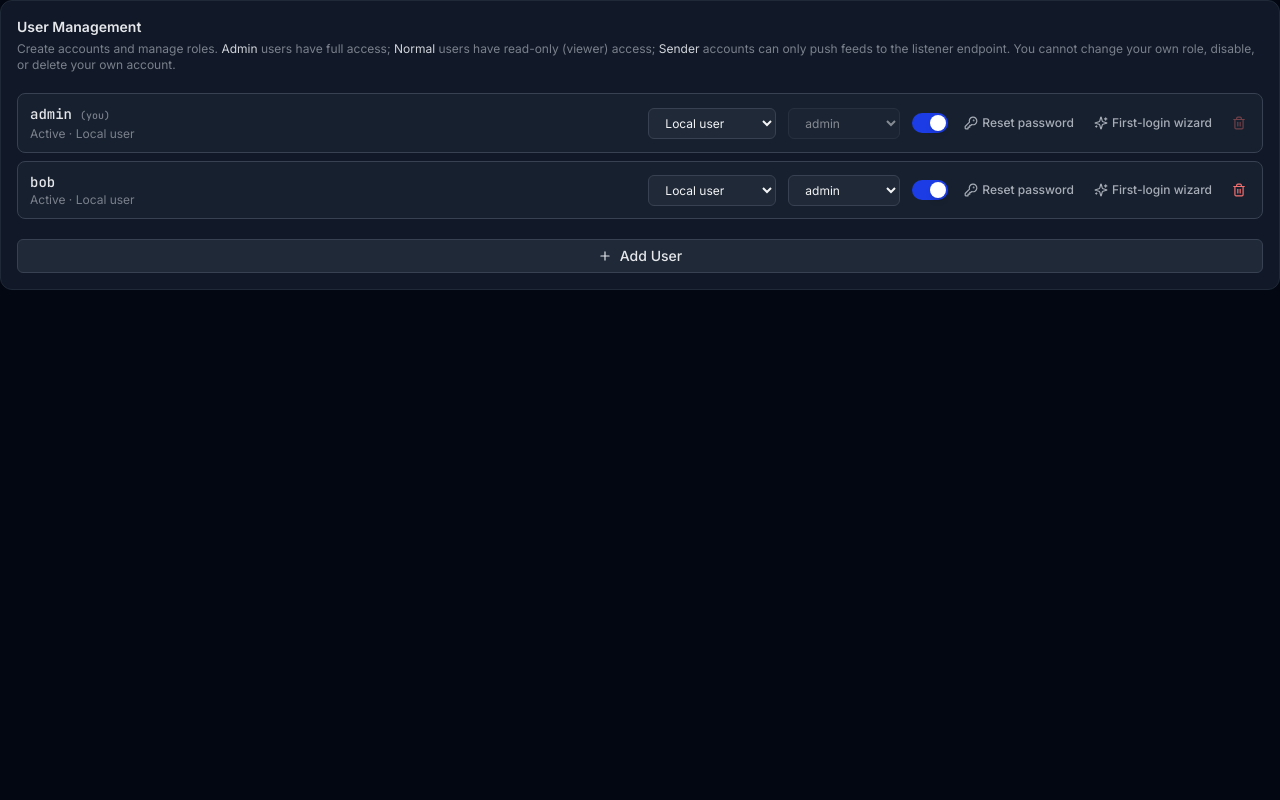
it: UserManagementTab (prompts-045) › surfaces a backend rejection (e.g. last-admin guard)
Check: the text "bob" is shown, box x1=30 y1=173 x2=55 y2=191
Click the button titled "Delete user": (1239, 190) x1=1228 y1=179 x2=1250 y2=201
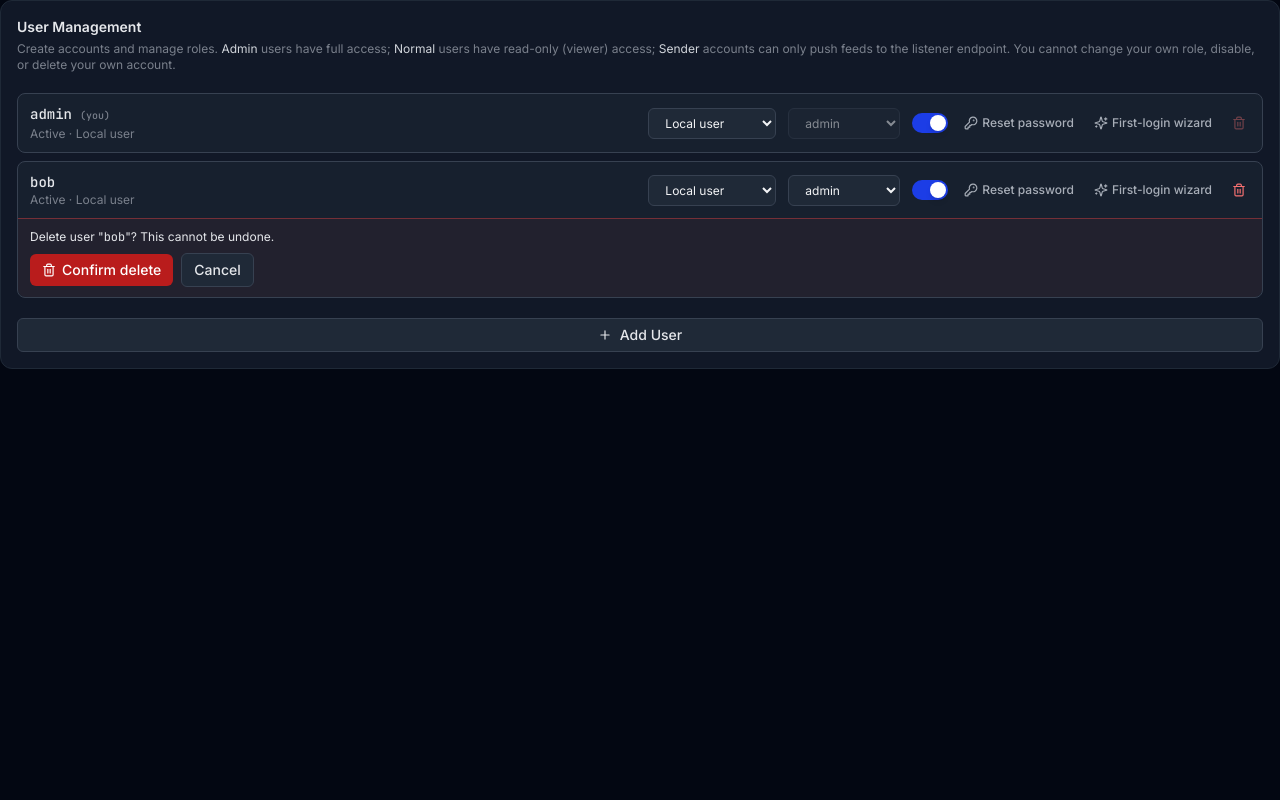
Click the button with test id "delete-confirm-yes-2": (102, 270) x1=30 y1=254 x2=173 y2=286
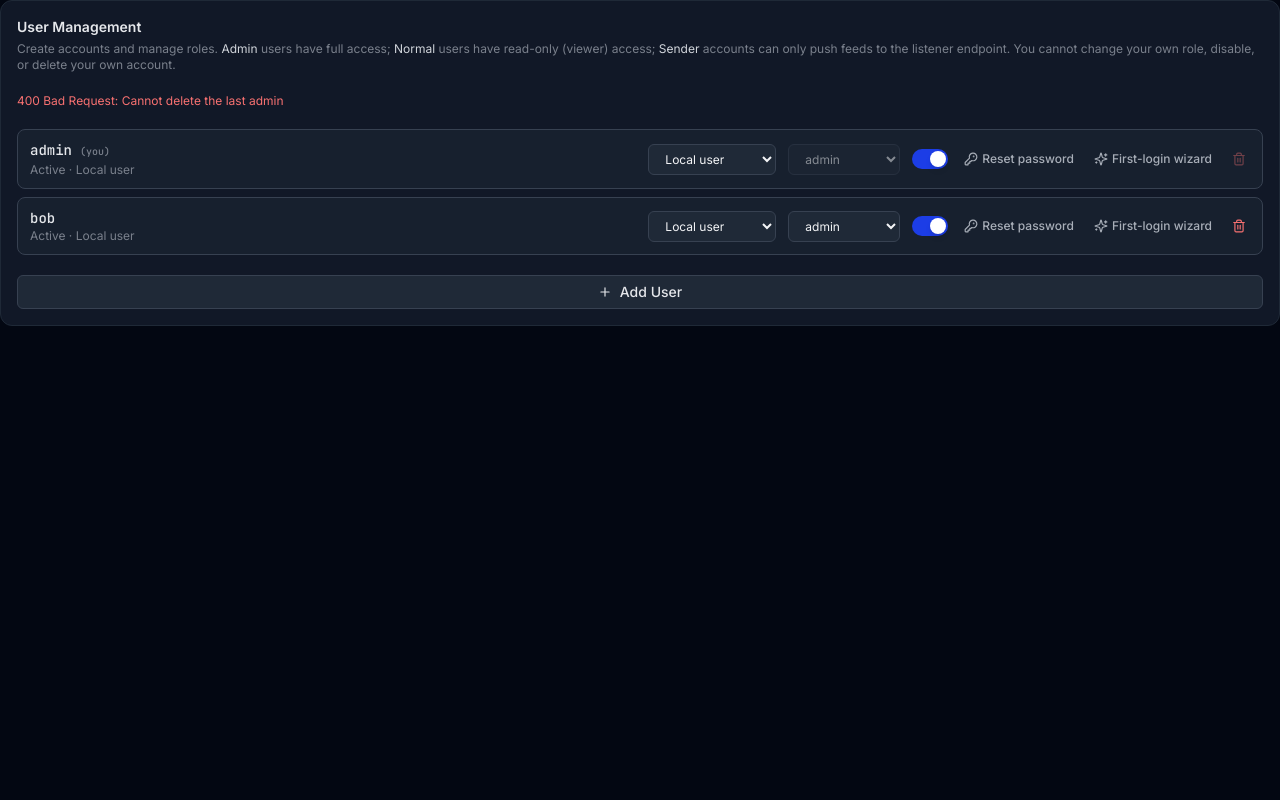
Check: the message shows "last admin", box x1=17 y1=93 x2=284 y2=108
